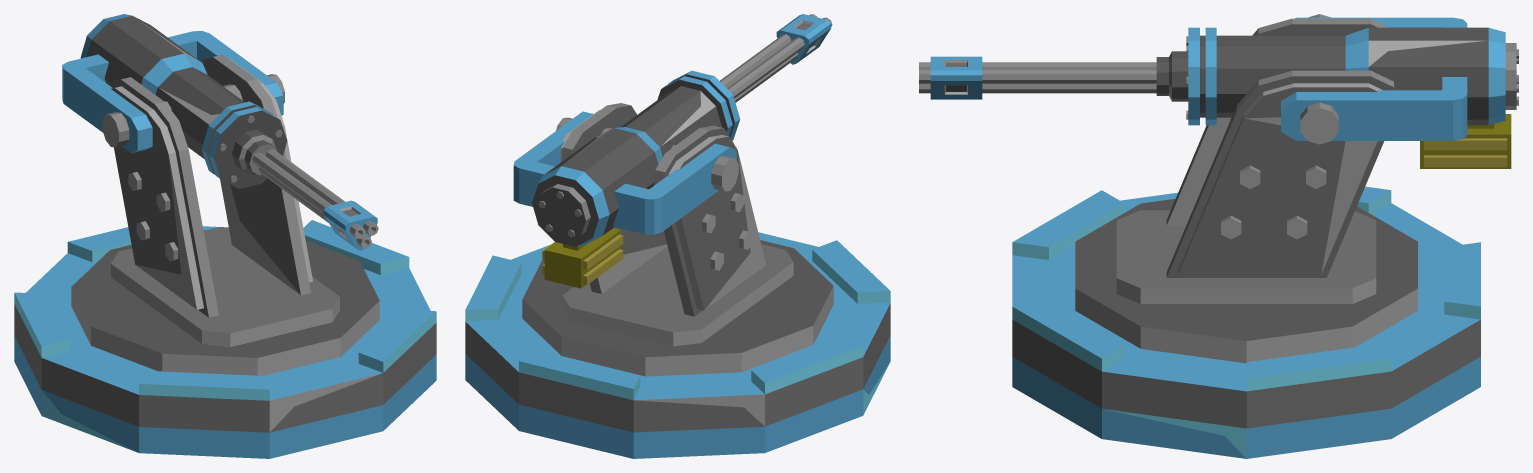
File: tower_minigun_blue_1.fbx
The picture shows the model from 3 angles, left to right: view 1: azimuth 30°, elevation 25°; view 2: azimuth 150°, elevation 25°; view 3: azimuth 270°, elevation 25°; orthographic projection. The views are drawn at different scales.
Parts seen in each view (by area): view 1: top_minigun_blue_1, tower_minigun_blue_1; view 2: top_minigun_blue_1, tower_minigun_blue_1; view 3: top_minigun_blue_1, tower_minigun_blue_1.
Boxes of the visible parts, box(x1,y1,x2,y2) form: top_minigun_blue_1: box(62, 14, 379, 375); tower_minigun_blue_1: box(14, 220, 436, 458); top_minigun_blue_1: box(513, 14, 833, 376); tower_minigun_blue_1: box(465, 232, 890, 458); top_minigun_blue_1: box(919, 14, 1518, 363); tower_minigun_blue_1: box(1012, 186, 1480, 458).
Bounding box in the file's own units: 145 × 104 × 177.
